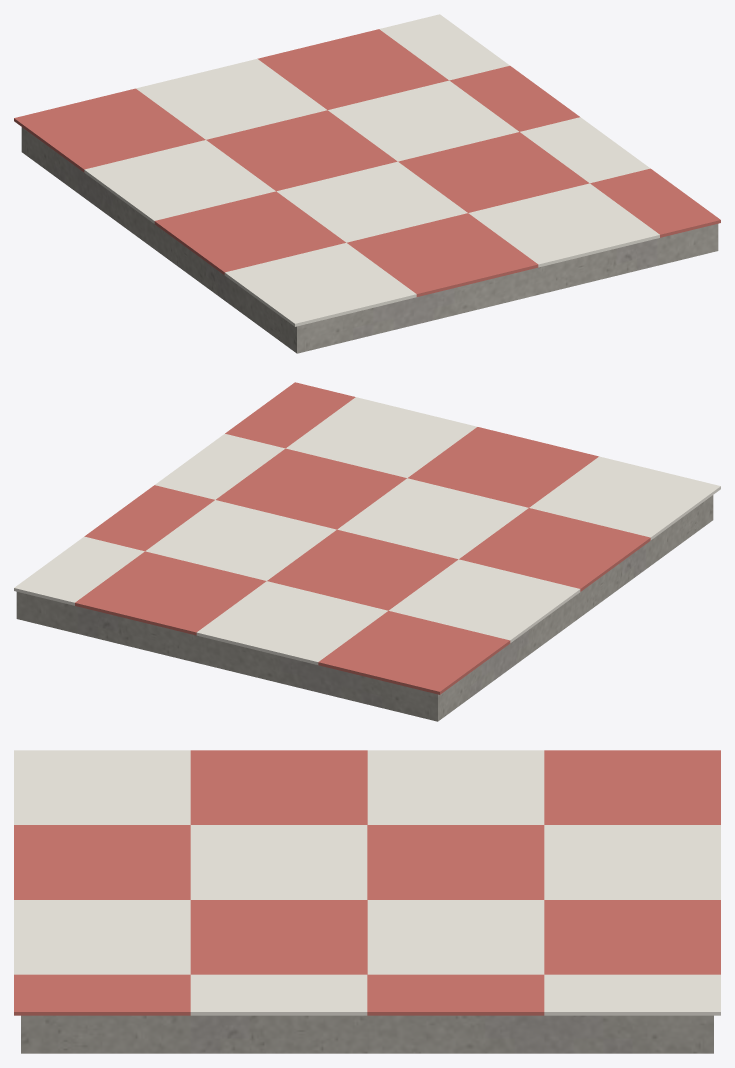
Rendered from floor_dine_e0_25_0_0.glb.
3 views of the same model, one above another, from view 1: azimuth 30°, elevation 25°; view 2: azimuth 150°, elevation 25°; view 3: azimuth 270°, elevation 25° (orthographic). The views are drawn at different scales.
Parts seen in each view (by area): view 1: floor_dine_e0_25_0_0_tile_w, floor_dine_e0_25_0_0_tile_r, floor_dine_e0_25_0_0_concrete; view 2: floor_dine_e0_25_0_0_tile_r, floor_dine_e0_25_0_0_tile_w, floor_dine_e0_25_0_0_concrete; view 3: floor_dine_e0_25_0_0_tile_r, floor_dine_e0_25_0_0_tile_w, floor_dine_e0_25_0_0_concrete.
Boxes of the visible parts, x1,y1,x2,y2 form: floor_dine_e0_25_0_0_tile_w: [84, 14, 659, 326]; floor_dine_e0_25_0_0_tile_r: [14, 29, 720, 296]; floor_dine_e0_25_0_0_concrete: [21, 127, 718, 353]; floor_dine_e0_25_0_0_tile_r: [75, 382, 650, 694]; floor_dine_e0_25_0_0_tile_w: [14, 397, 720, 664]; floor_dine_e0_25_0_0_concrete: [16, 495, 713, 721]; floor_dine_e0_25_0_0_tile_r: [14, 750, 720, 1015]; floor_dine_e0_25_0_0_tile_w: [14, 750, 720, 1015]; floor_dine_e0_25_0_0_concrete: [21, 1015, 713, 1053].
Size of the model in its own units: 1.75 by 0.13 by 2.
3 materials, 1 textured.
